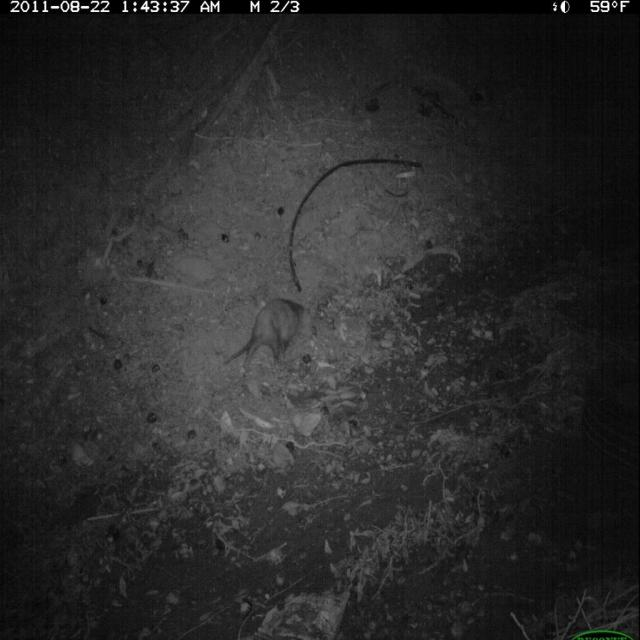opossum: (225, 267, 324, 403)
